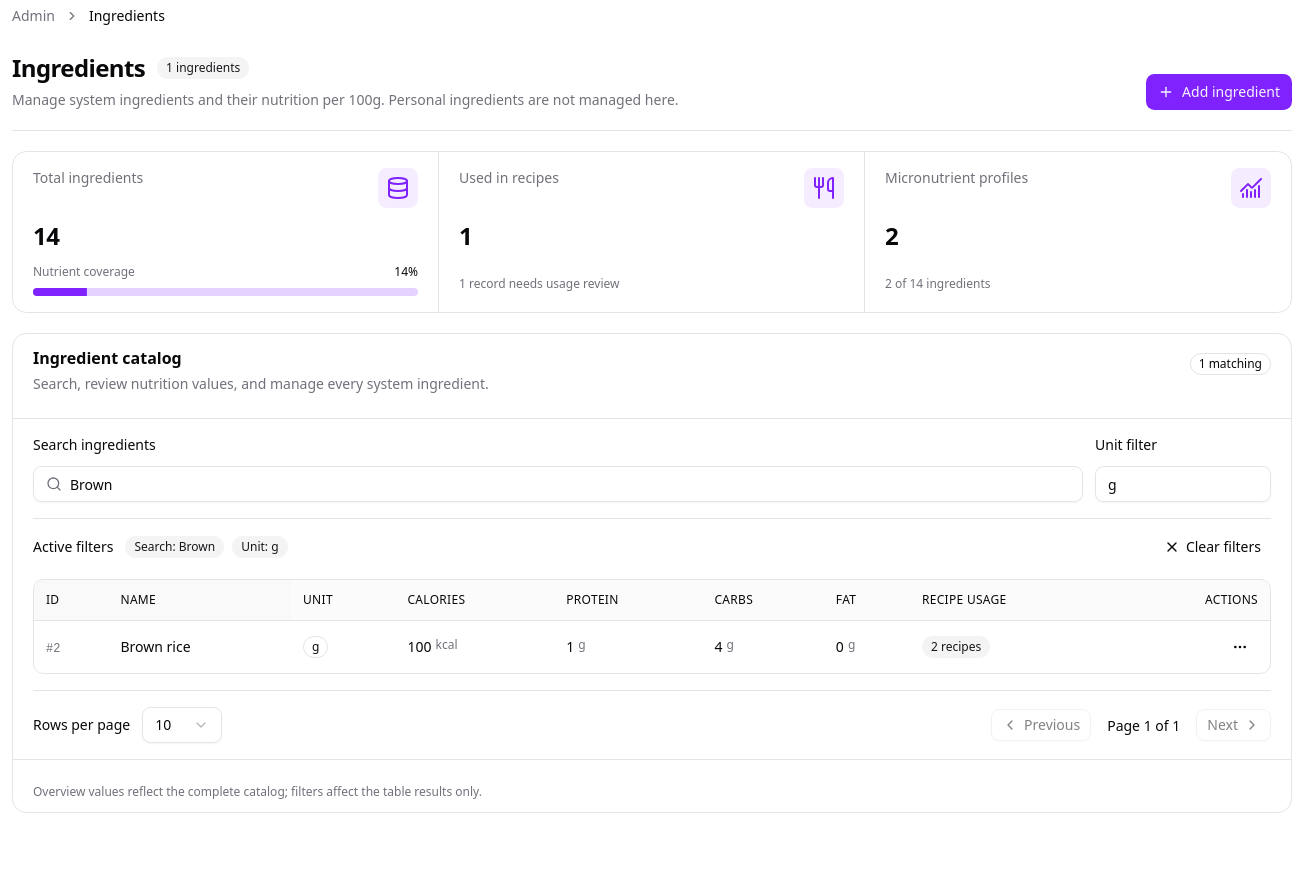
Test: IngredientsPage › shows active URL filters and clears them together
The image size is (1292, 886).
Expected: the text "Brown rice" is shown, [120,637,191,656]
Expected: the text "Search: Brown" is shown, [126,536,224,558]
Step 1. Click the button "Clear filters" → (1212, 547), box [1154,531,1271,563]
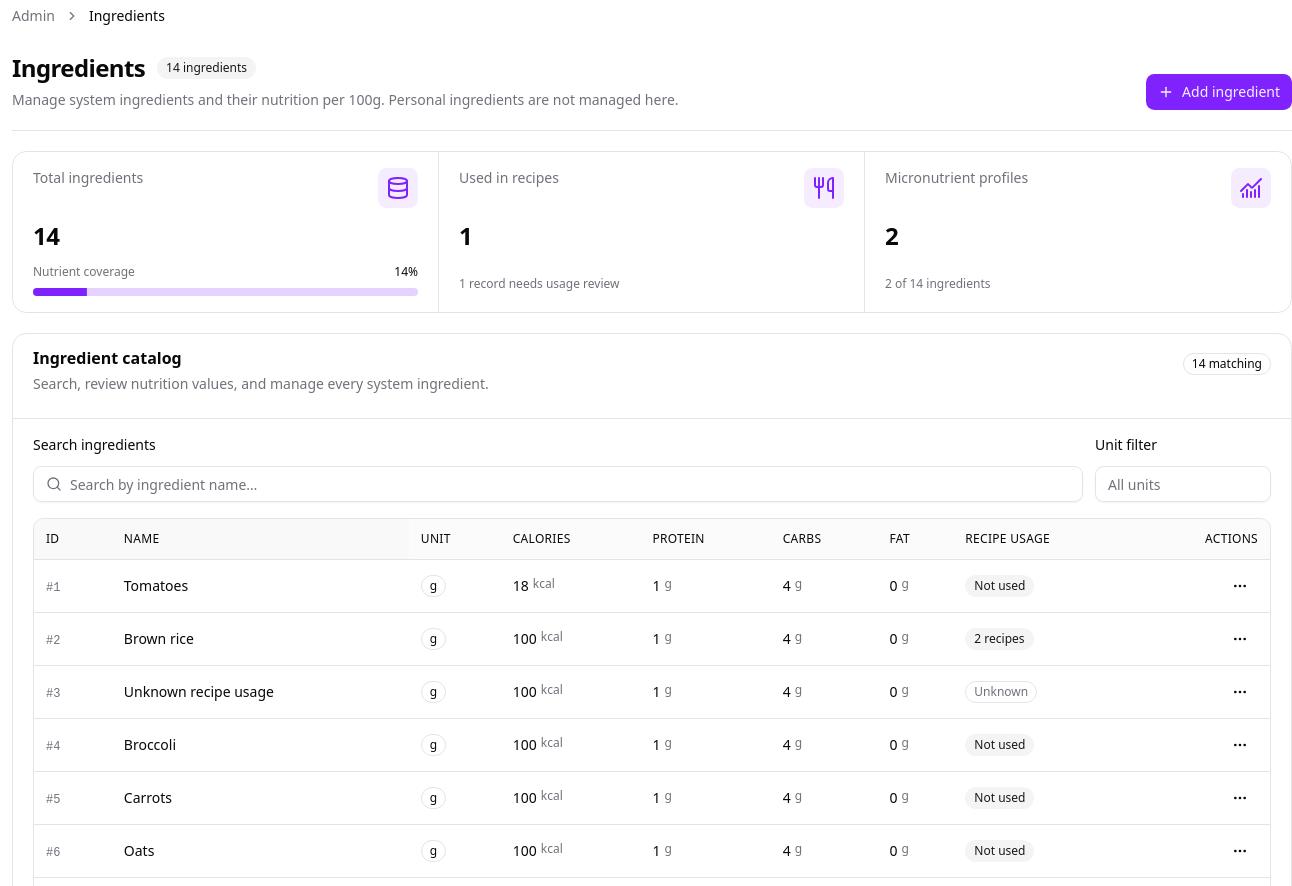
Result: the text "Tomatoes" is shown at [124,576,188,595]
